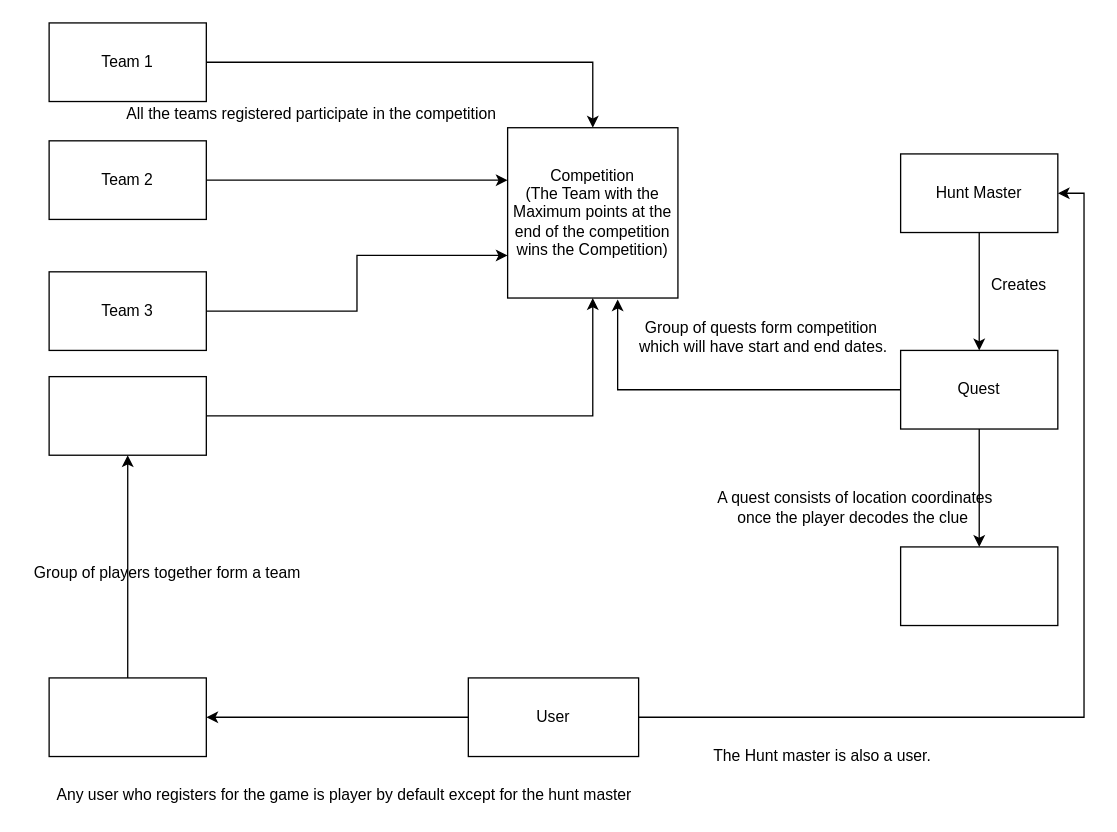
This 1117x832 diagram has some shape labels left out. The shapes that lost their labels are listed below. From the top down, each one's centre as x and y in pixels, then its label:
At (127,415): "Team 4".
At (978,586): "Location".
At (127,717): "Players".
